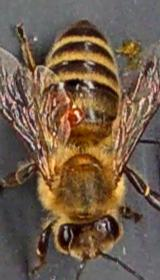varroa_mite: (62, 94, 94, 125)
